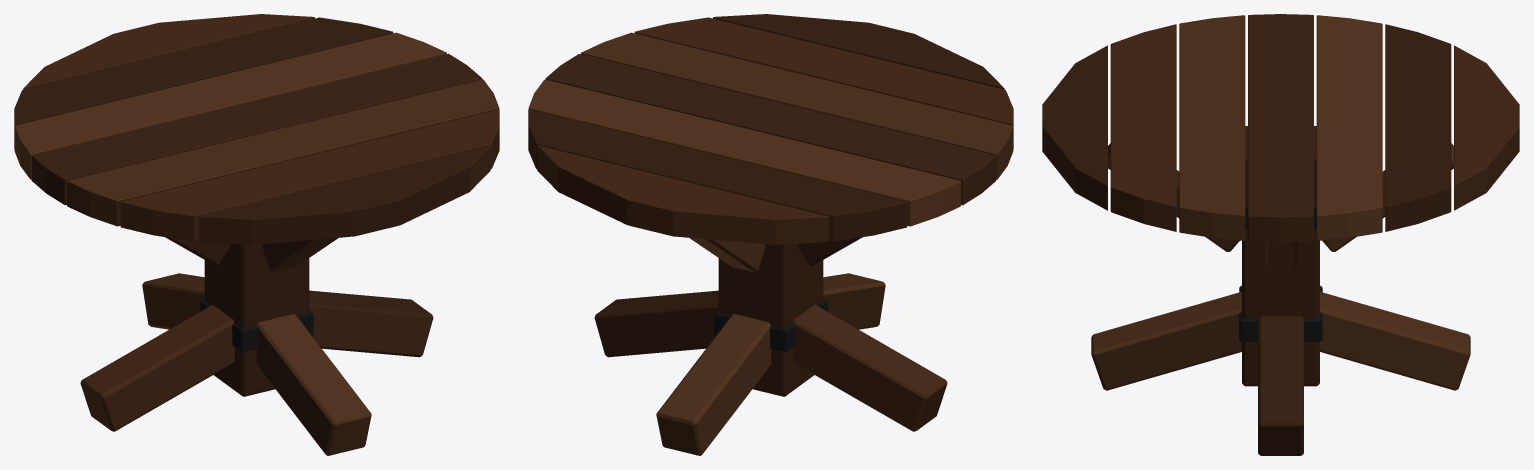
The model's file is Table_Round.fbx.
The picture shows the model from 3 angles, left to right: view 1: azimuth 30°, elevation 25°; view 2: azimuth 150°, elevation 25°; view 3: azimuth 270°, elevation 25°; orthographic projection.
Visible parts, largest first — view 1: Table_Round; view 2: Table_Round; view 3: Table_Round.
Part boxes in pixels (left/top/right/bottom): Table_Round: left=14, top=14, right=499, bottom=455; Table_Round: left=528, top=14, right=1013, bottom=455; Table_Round: left=1042, top=14, right=1519, bottom=455.
Bounding box in the file's own units: 1.36 × 0.834 × 1.35.
Materials: 2 (2 with a texture image).
